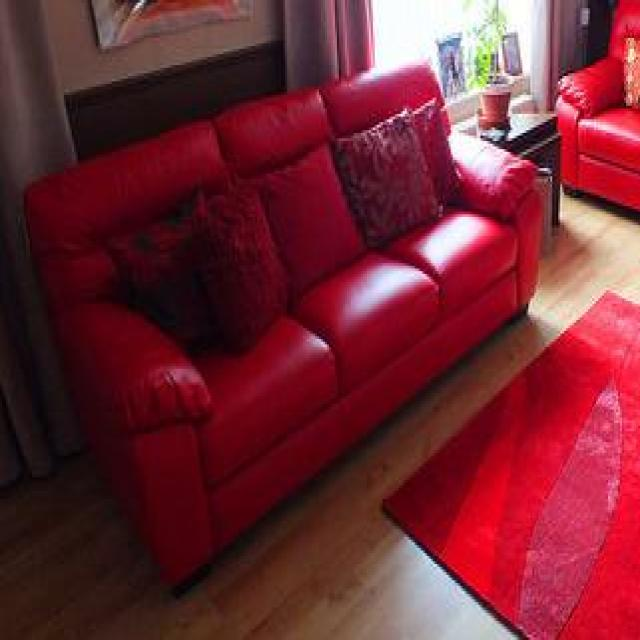sofa: (23, 56, 542, 600)
